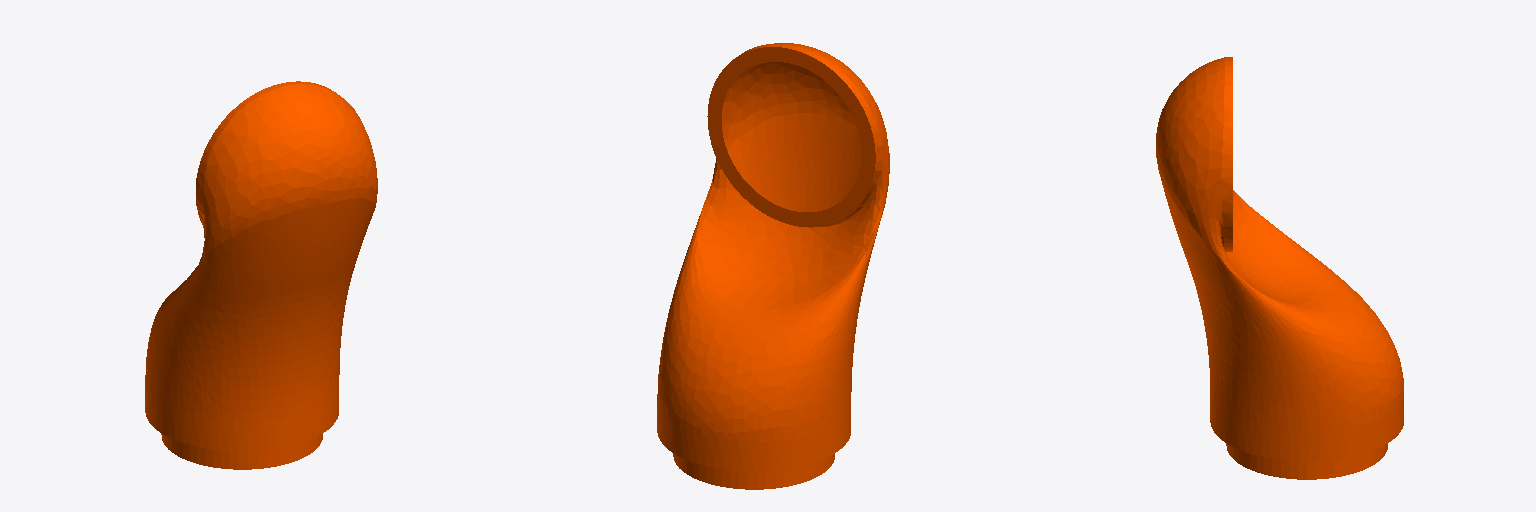
File: kuka-link5.obj
The picture shows the model from 3 angles: view 1: azimuth 30°, elevation 25°; view 2: azimuth 150°, elevation 25°; view 3: azimuth 270°, elevation 25°; orthographic projection.
Visible parts, largest first — view 1: object; view 2: object; view 3: object.
Part boxes in pixels (x1,y1,x2,y2): object: (145, 81, 377, 469); object: (657, 43, 889, 489); object: (1156, 57, 1403, 479).
Bounding box in the file's own units: 120 × 259 × 154.